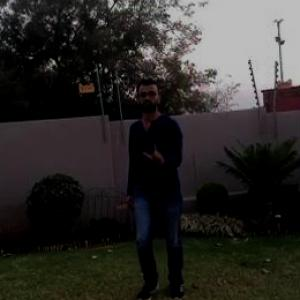land_hand: (141, 135, 168, 167)
